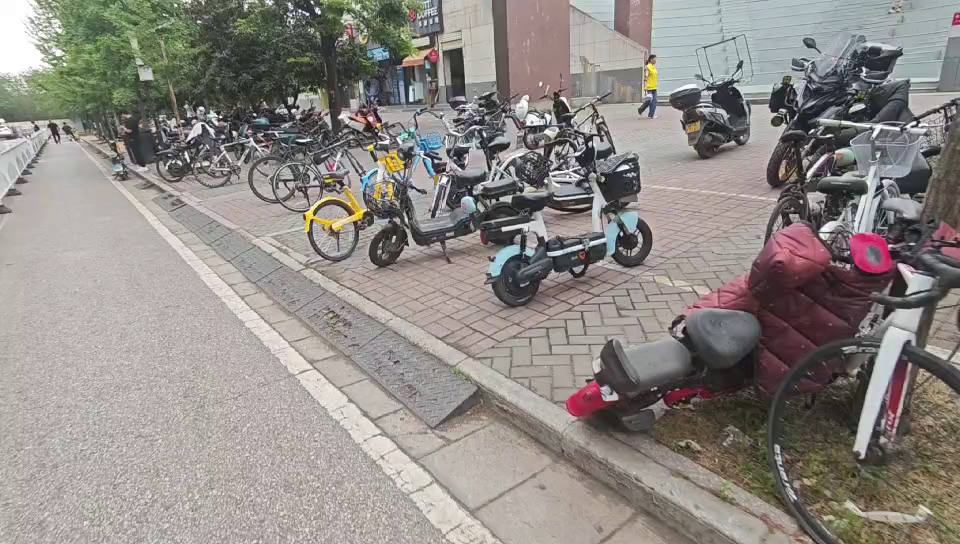others: (578, 224, 886, 421), (787, 199, 960, 544), (484, 145, 659, 297), (780, 32, 913, 187), (367, 153, 491, 262), (666, 37, 755, 158), (184, 131, 271, 190)
shared_bike_haluo: (360, 107, 439, 201)
shared_bike_meituan: (305, 147, 429, 263)
